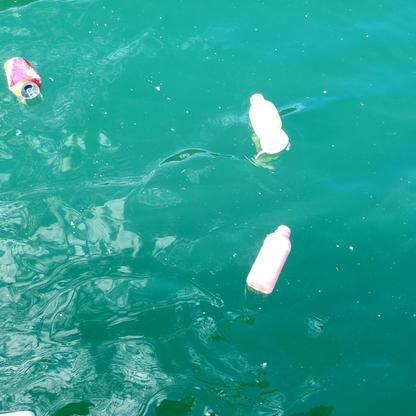can: (4, 57, 43, 99)
plastic bottle: (247, 224, 293, 294), (248, 90, 289, 153)
